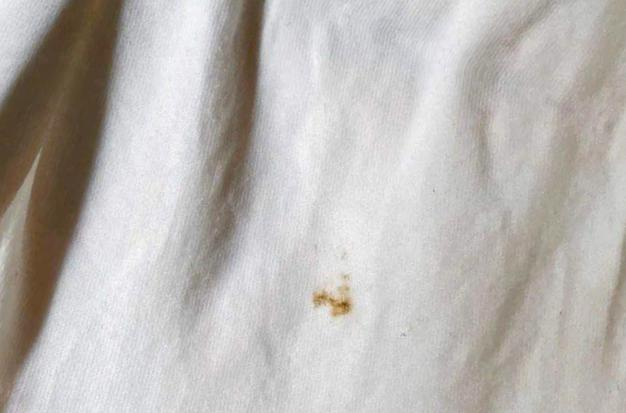stain: (308, 269, 362, 324)
